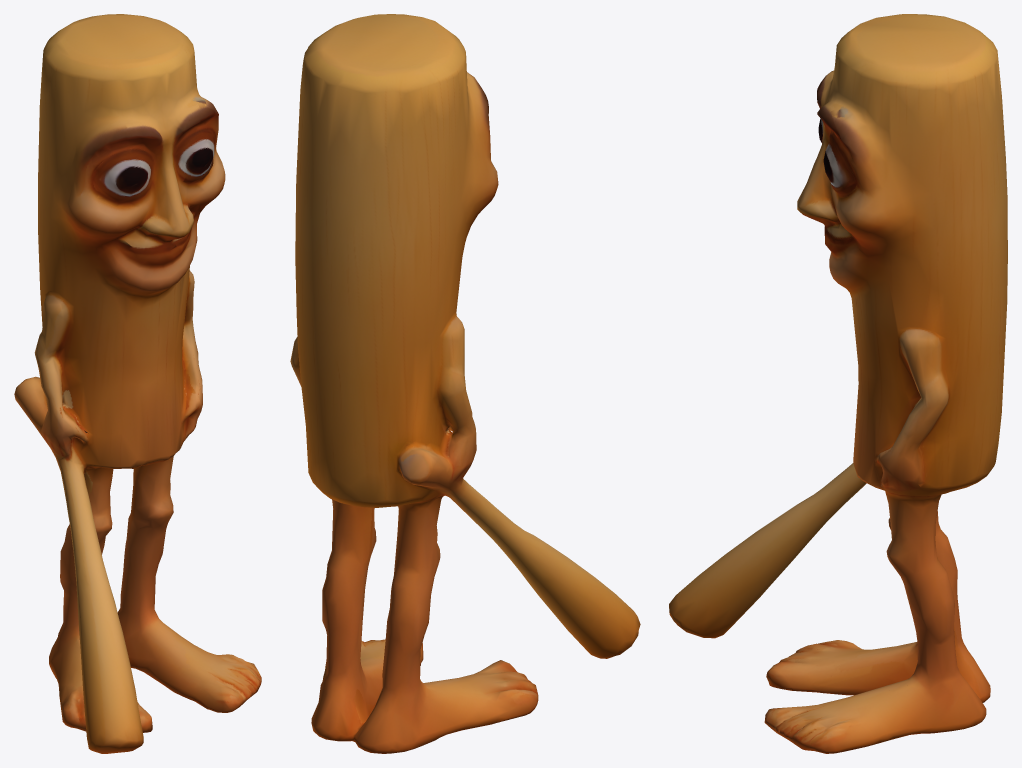
The model's file is StoreTungTung-rig-5k.glb.
The picture shows the model from 3 angles, left to right: view 1: azimuth 30°, elevation 25°; view 2: azimuth 150°, elevation 25°; view 3: azimuth 270°, elevation 25°; orthographic projection. The views are drawn at different scales.
Visible parts, largest first — view 1: material; view 2: material; view 3: material.
Part boxes in pixels (x1,y1,x2,y2): material: (14, 14, 261, 753); material: (290, 14, 640, 753); material: (669, 14, 1007, 753).
Bounding box in the file's own units: 0.4132 × 1.11 × 0.5091.
Materials: 1 (1 with a texture image).
